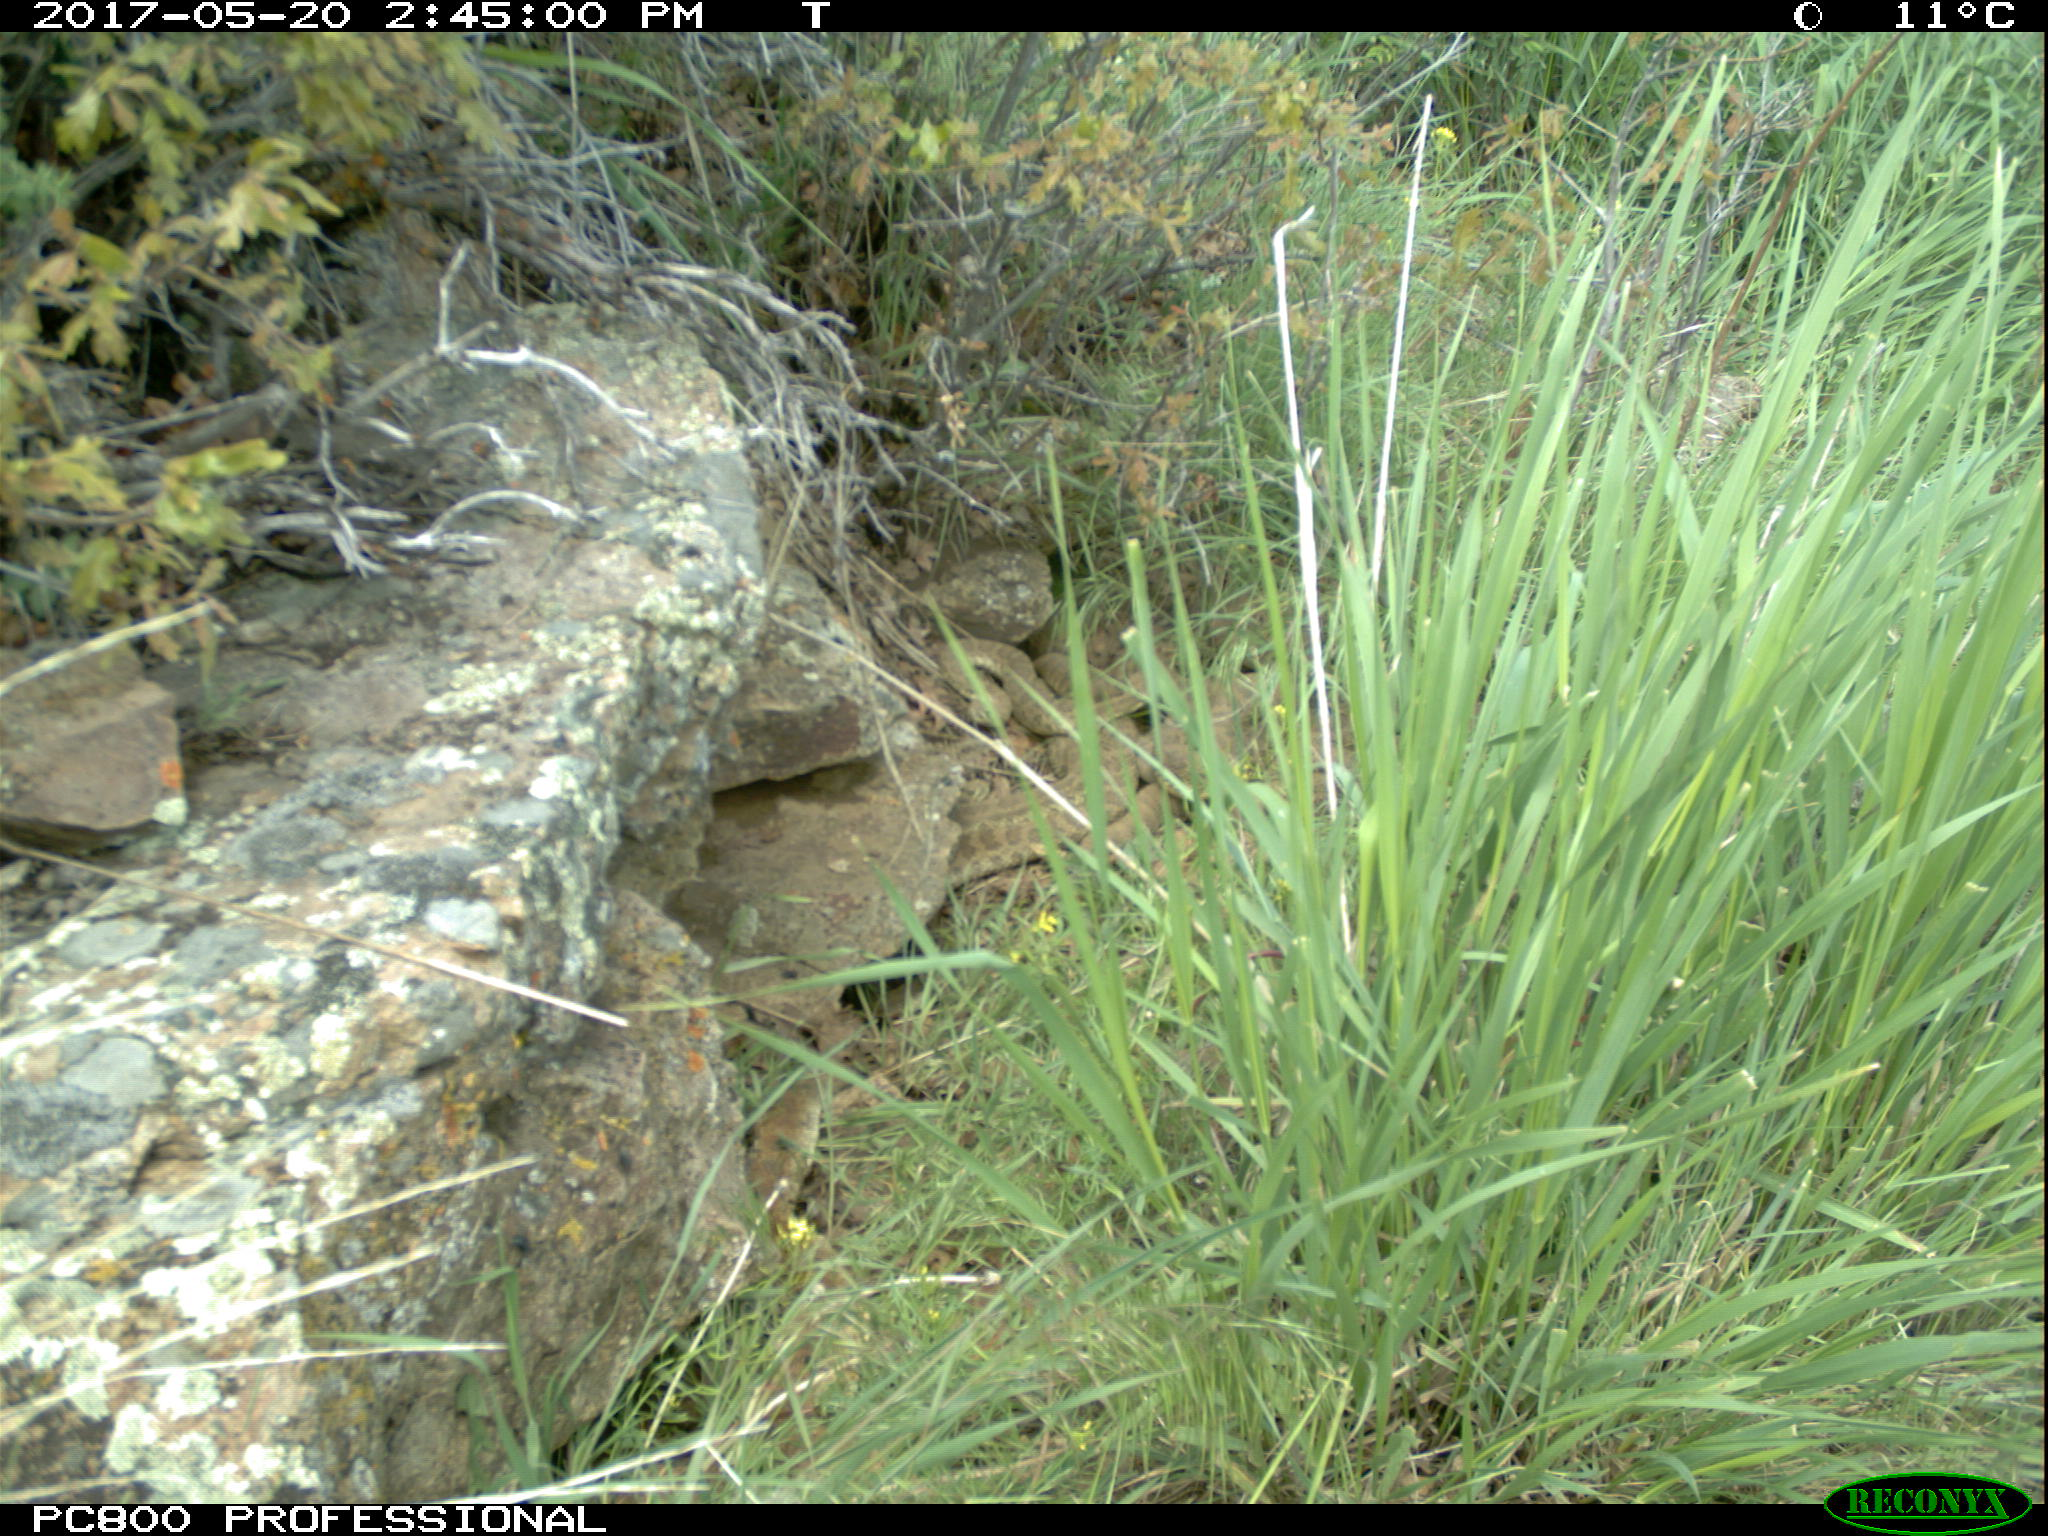snake: (948, 729, 1135, 873), (935, 637, 1185, 731), (747, 1020, 822, 1299)
